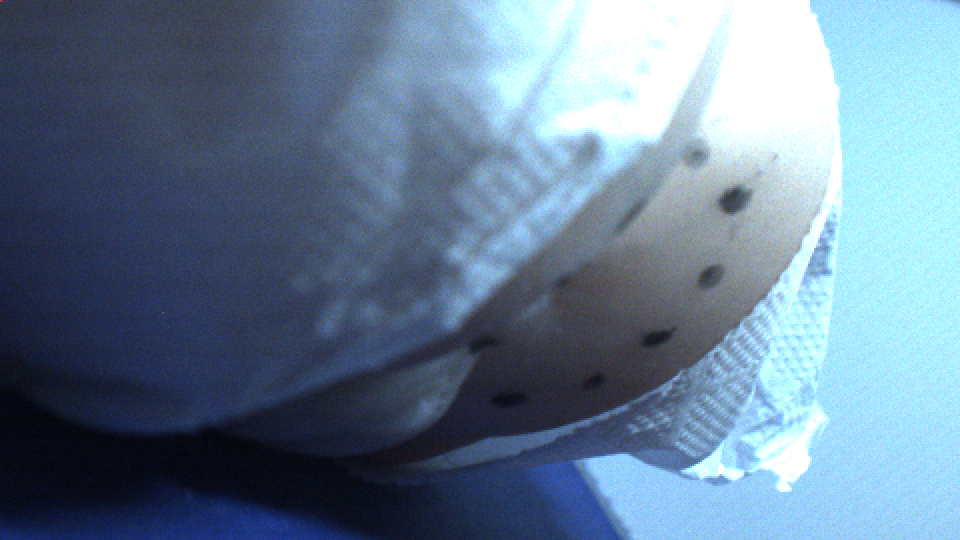asarp_marker: (487, 384, 539, 418), (690, 254, 735, 291), (606, 200, 651, 234), (635, 321, 684, 350), (715, 186, 758, 213), (468, 330, 504, 359), (578, 368, 612, 396), (683, 134, 708, 169)
